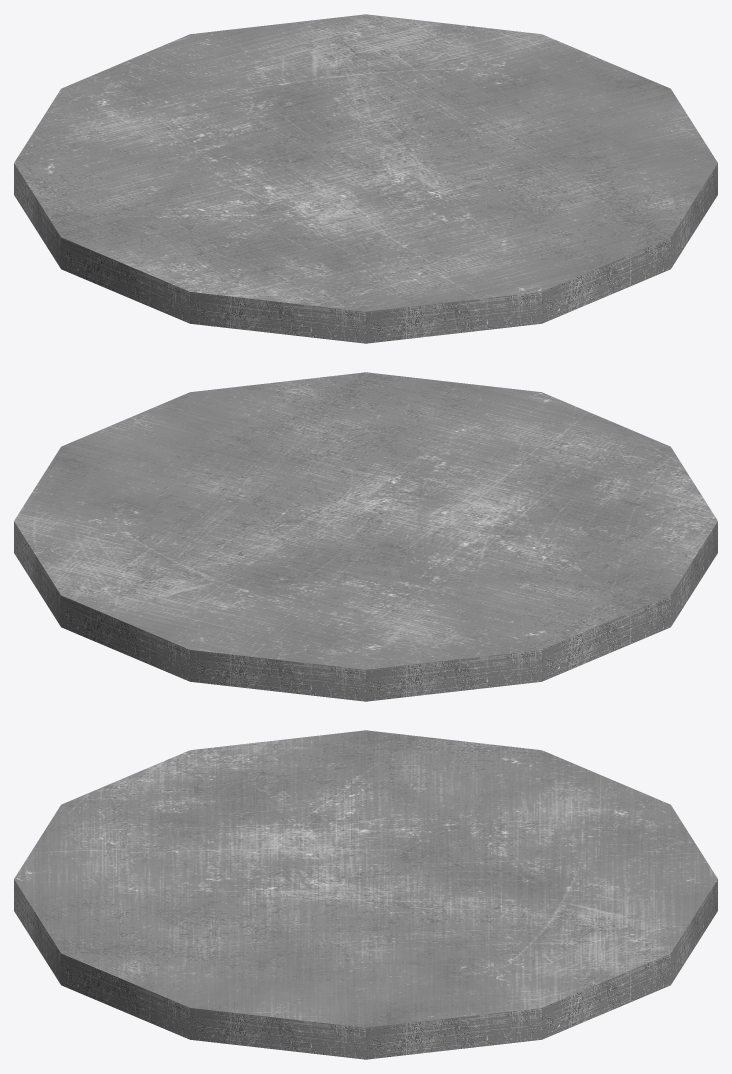
3 views of the same model, one above another, from view 1: azimuth 30°, elevation 25°; view 2: azimuth 150°, elevation 25°; view 3: azimuth 270°, elevation 25° (orthographic).
Visible parts, largest first — view 1: AD-2-Base; view 2: AD-2-Base; view 3: AD-2-Base.
Part boxes in pixels (left/top/right/bottom): AD-2-Base: left=14, top=14, right=717, bottom=343; AD-2-Base: left=14, top=372, right=717, bottom=701; AD-2-Base: left=14, top=730, right=717, bottom=1059.
Size of the model in its own units: 1 by 0.05 by 1.
